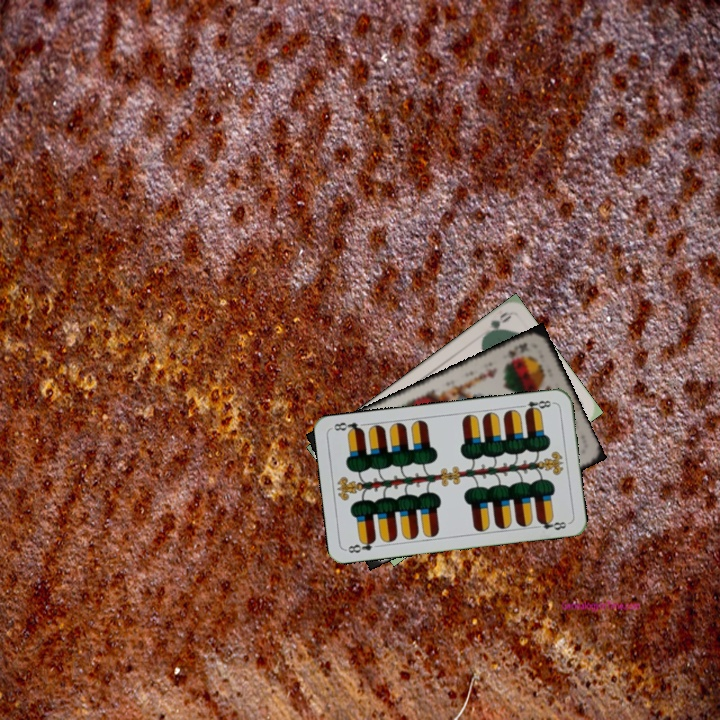E8: (516, 396, 556, 415), (343, 535, 378, 556)
GO: (479, 308, 513, 341)
SK: (504, 339, 531, 360)
